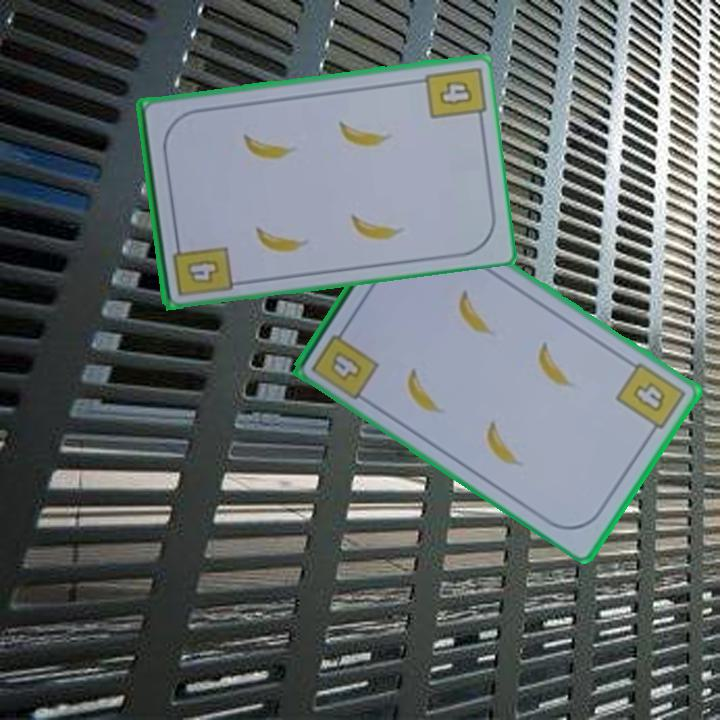4b: (612, 358, 689, 440), (308, 321, 382, 403), (168, 234, 234, 299), (436, 76, 476, 108)
